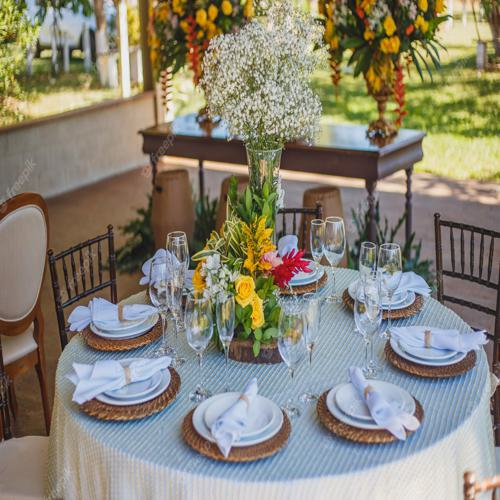copa: (184, 291, 214, 404), (150, 258, 180, 361), (354, 283, 383, 379), (217, 290, 239, 396), (379, 242, 401, 339), (325, 218, 348, 304), (358, 241, 378, 300), (167, 229, 190, 277), (311, 218, 326, 279)
